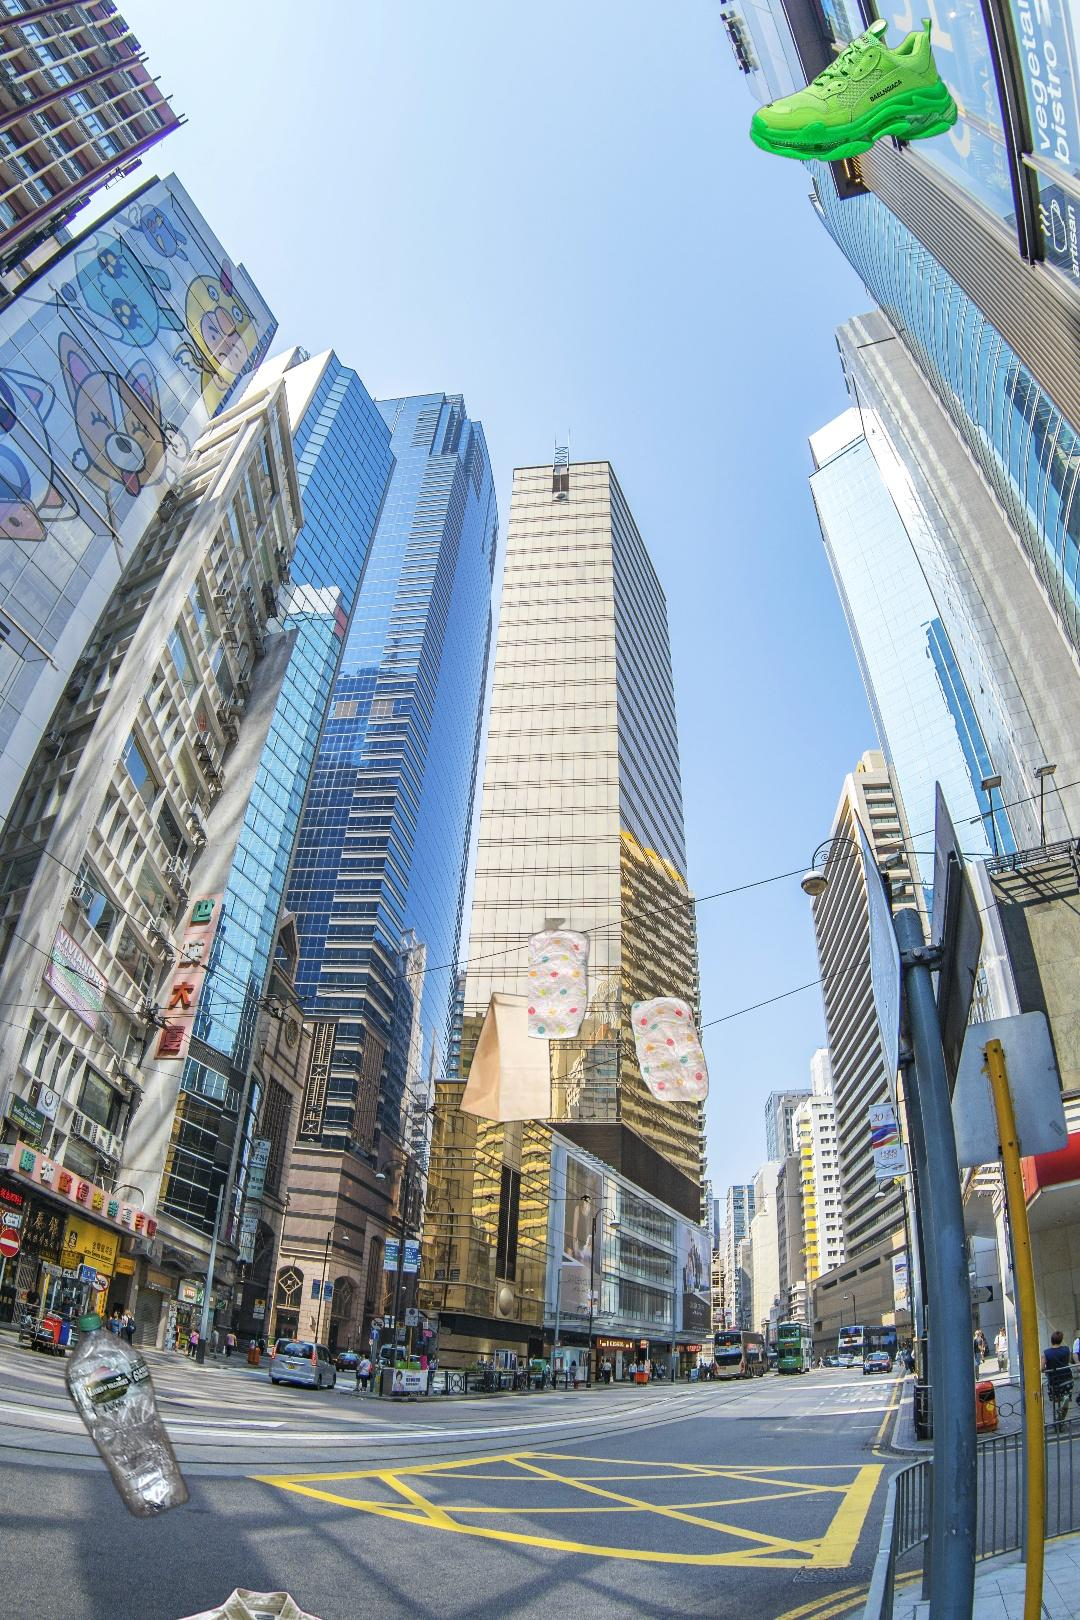clothes: (81, 1583, 448, 1620)
paper-bag: (457, 990, 554, 1126)
plastic-bottles: (60, 1305, 194, 1525)
shoes: (747, 14, 961, 164)
trash: (528, 918, 711, 1100)
